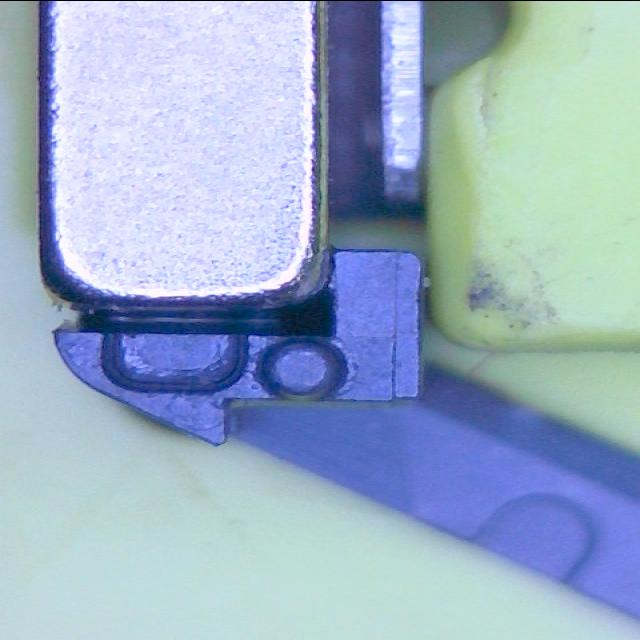lacking: (98, 326, 250, 396)
